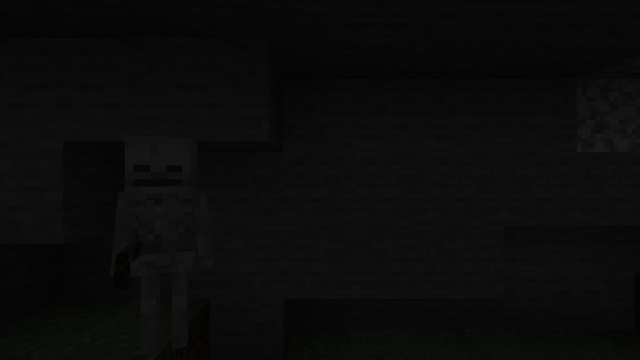squelettes: (109, 136, 209, 356)
